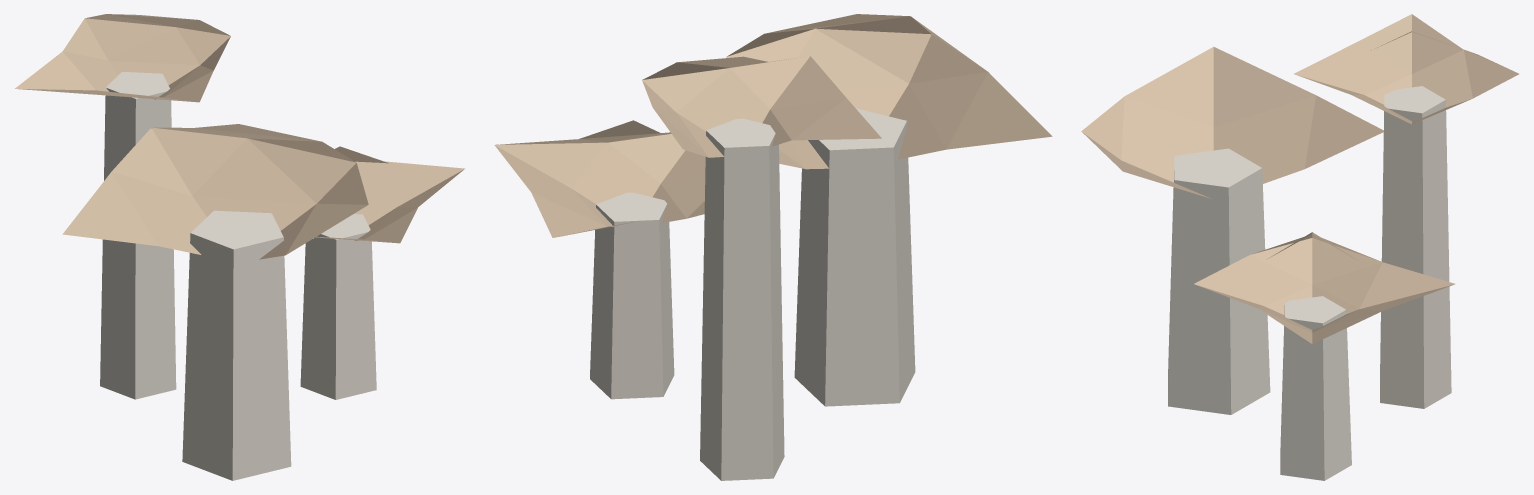
The model's file is mushroom_v01.glb.
The picture shows the model from 3 angles, left to right: view 1: azimuth 30°, elevation 25°; view 2: azimuth 150°, elevation 25°; view 3: azimuth 270°, elevation 25°; orthographic projection. The views are drawn at different scales.
Visible parts, largest first — view 1: lod0; view 2: lod0; view 3: lod0.
Part boxes in pixels (x1,y1,x2,y2): lod0: [15, 14, 464, 480]; lod0: [494, 14, 1052, 480]; lod0: [1081, 14, 1518, 480].
Size of what is drawn, in the model's own units: 0.5409 by 0.4193 by 0.4606.
